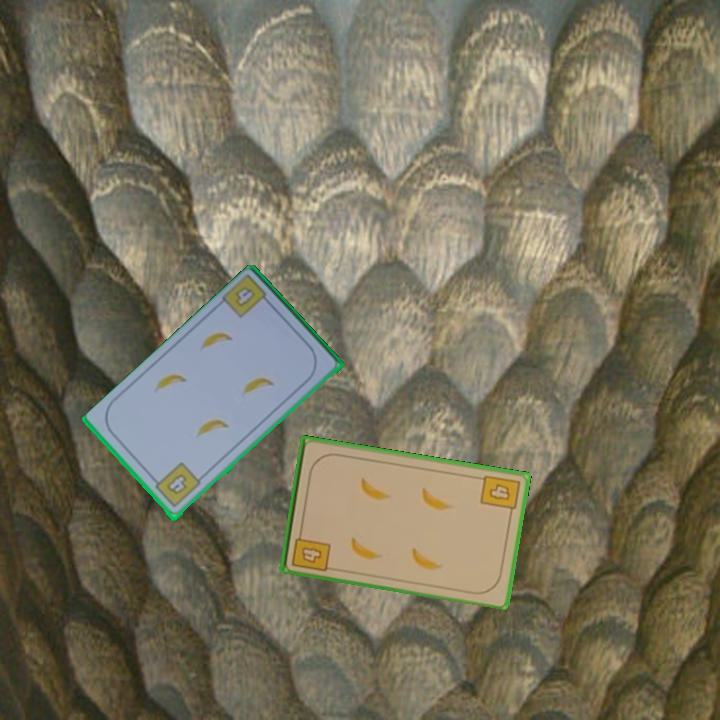4b: (149, 459, 203, 511), (219, 272, 275, 322), (477, 471, 523, 519), (288, 526, 333, 575)
